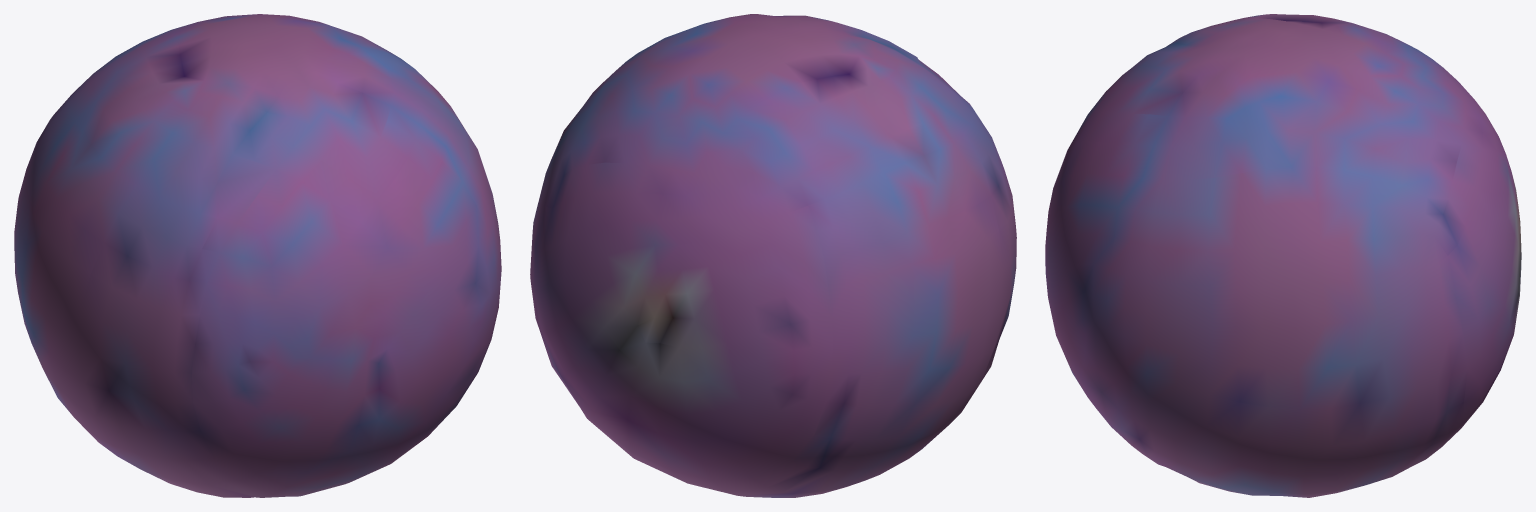
The model's file is 04-6493239-vertex.glb.
3 views of the same model, side by side, from view 1: azimuth 30°, elevation 25°; view 2: azimuth 150°, elevation 25°; view 3: azimuth 270°, elevation 25° (orthographic).
Parts seen in each view (by area): view 1: Retopo_neural_node_f6bf1e37-8e0e-493b-858c-07ed4fe5fcc5; view 2: Retopo_neural_node_f6bf1e37-8e0e-493b-858c-07ed4fe5fcc5; view 3: Retopo_neural_node_f6bf1e37-8e0e-493b-858c-07ed4fe5fcc5.
Part boxes in pixels (x1,y1,x2,y2): Retopo_neural_node_f6bf1e37-8e0e-493b-858c-07ed4fe5fcc5: (14, 14, 501, 497); Retopo_neural_node_f6bf1e37-8e0e-493b-858c-07ed4fe5fcc5: (530, 14, 1016, 497); Retopo_neural_node_f6bf1e37-8e0e-493b-858c-07ed4fe5fcc5: (1045, 14, 1521, 497).
Size of the model in its own units: 0.4846 by 0.4848 by 0.4855.
